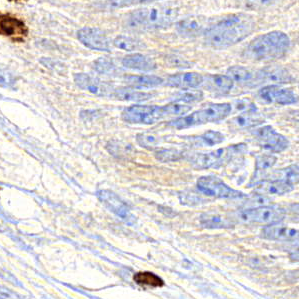Lymphocyte: (130, 267, 167, 290)
